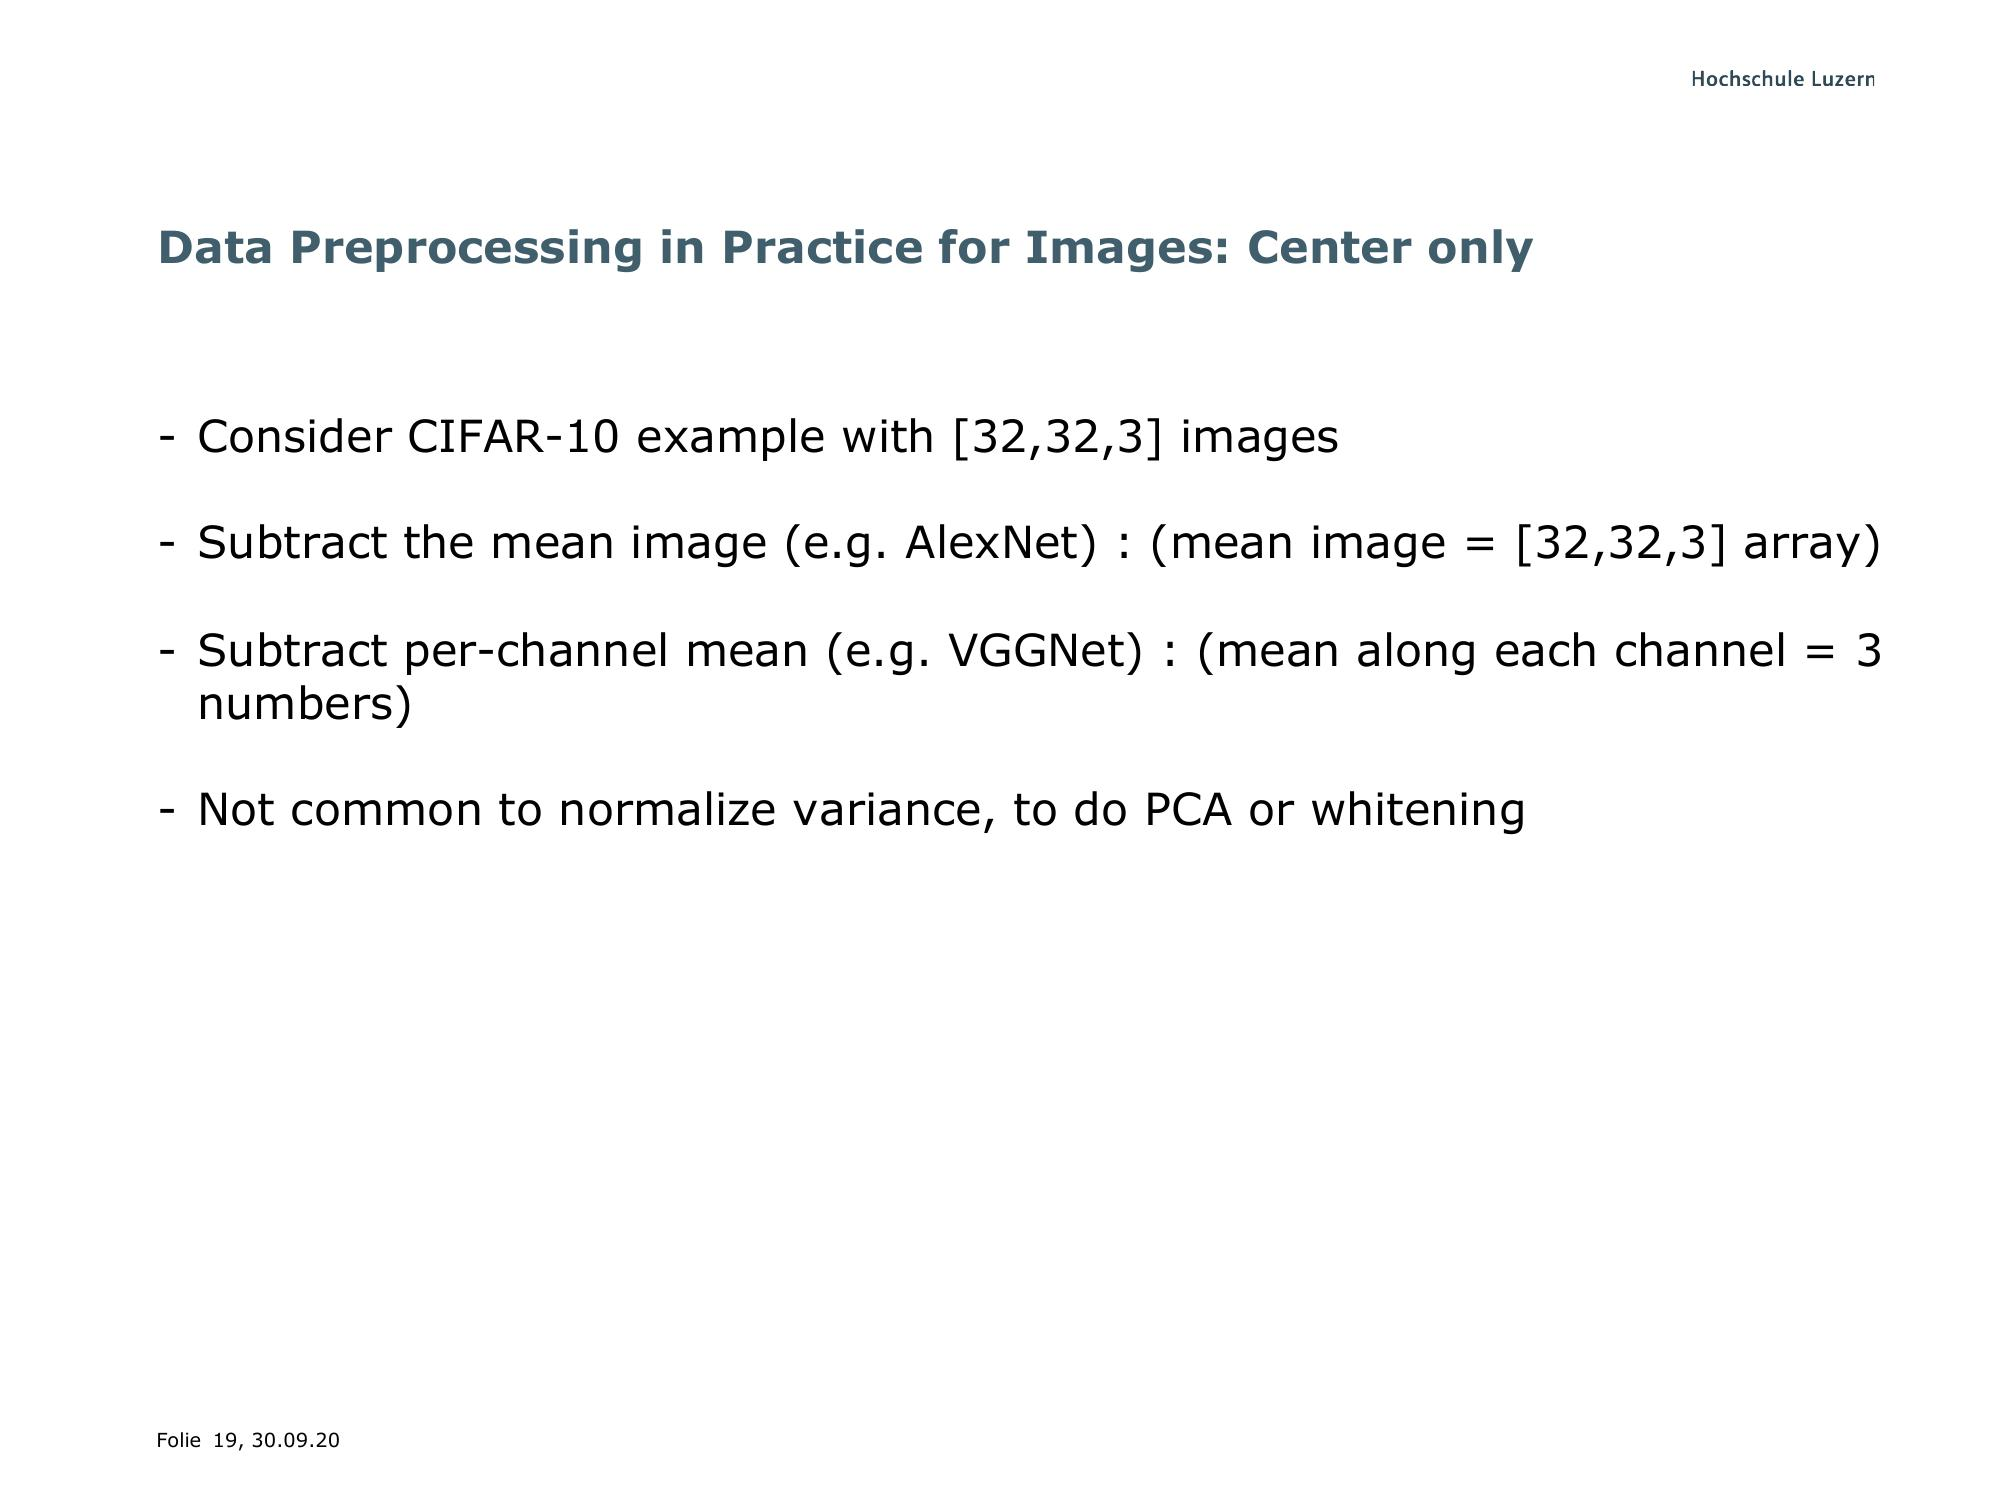Title: (142, 222, 1553, 296)
